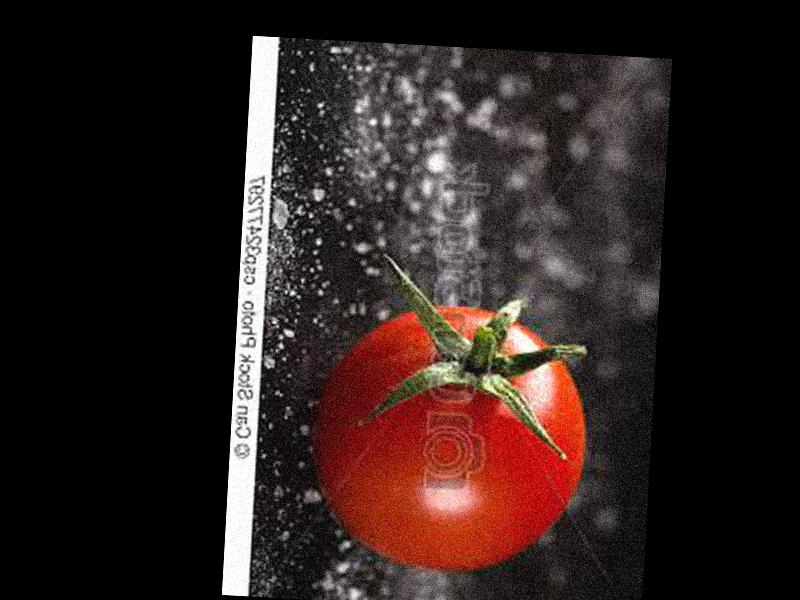Tomato: (310, 298, 593, 578)
